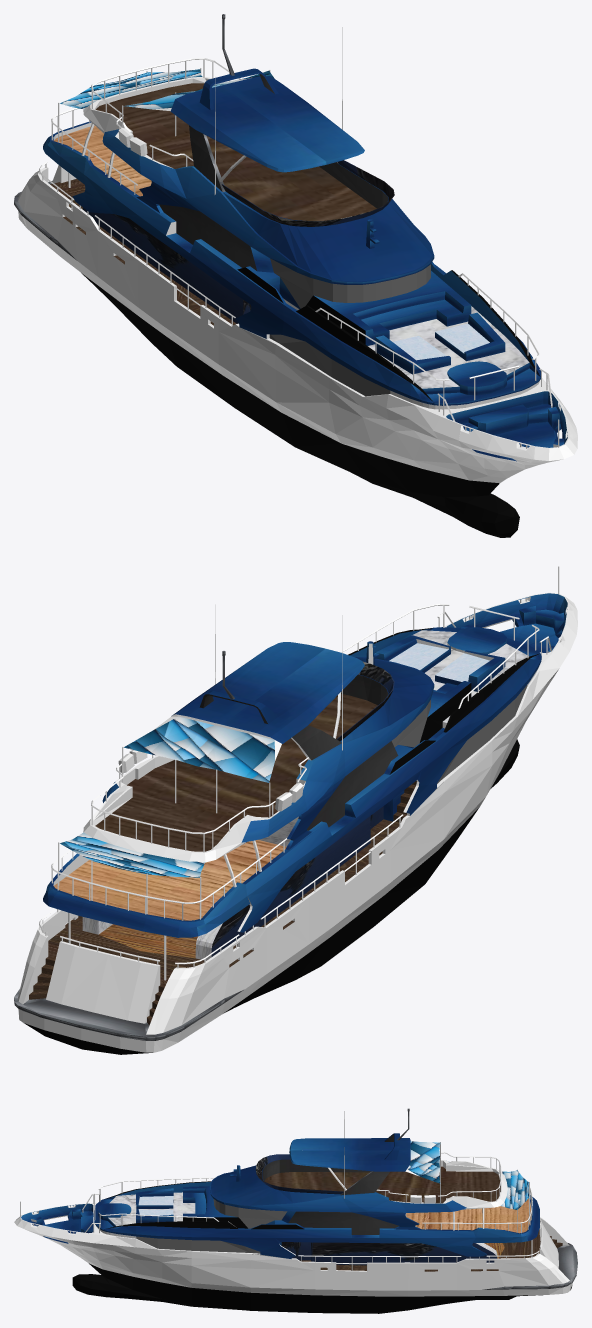
File: yatch_II.glb
3 views of the same model, one above another, from view 1: azimuth 30°, elevation 25°; view 2: azimuth 150°, elevation 25°; view 3: azimuth 270°, elevation 25° (orthographic). The views are drawn at different scales.
Size of the model in its own units: 9.17 by 17.5 by 45.08.
12 materials, 10 textured.
